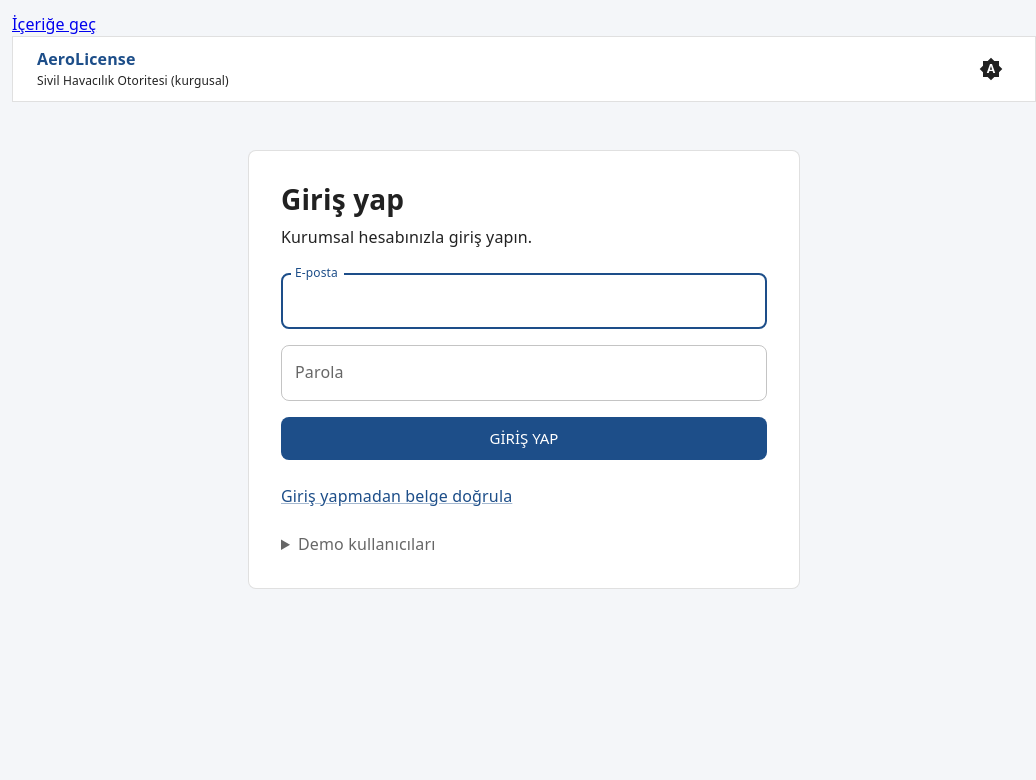
Giriş formu › geçersiz e-posta formatını reddeder
Type "eposta-degil" into the field labelled "E-posta".
click(524, 302); type("eposta-degil")  # box [281,274,767,330]
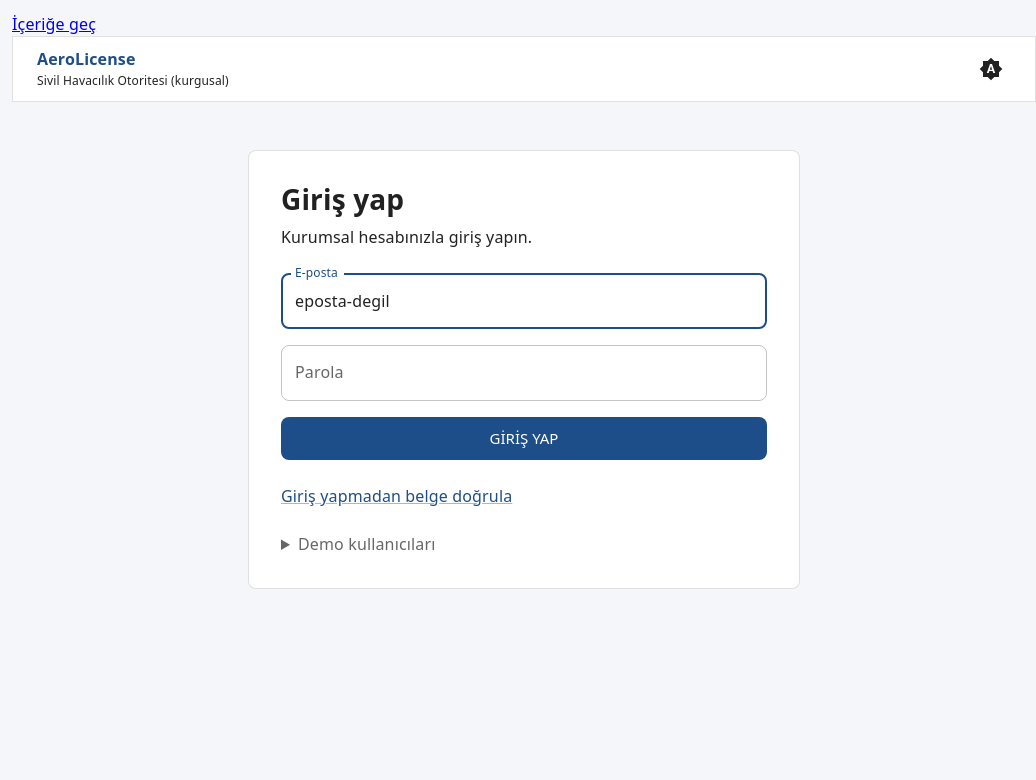
Type "x" into the password field labelled "Parola".
click(524, 374); type("x")  # box [281,346,767,402]
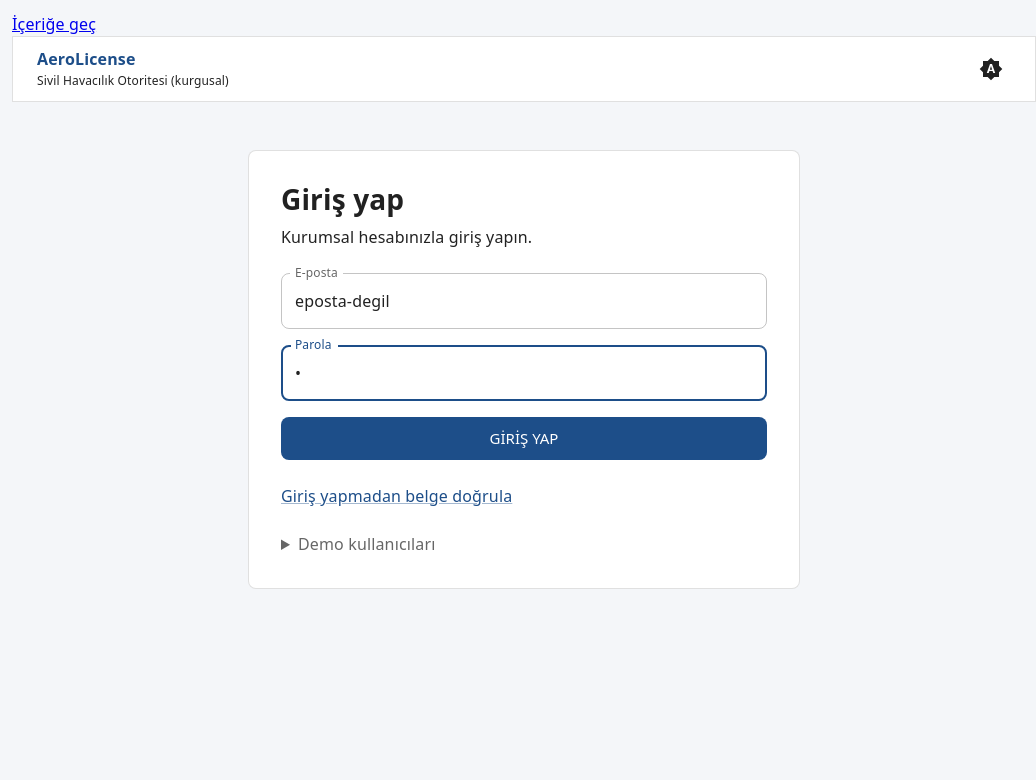
Click the button "Giriş yap".
click(524, 439)  # box [281,418,767,460]
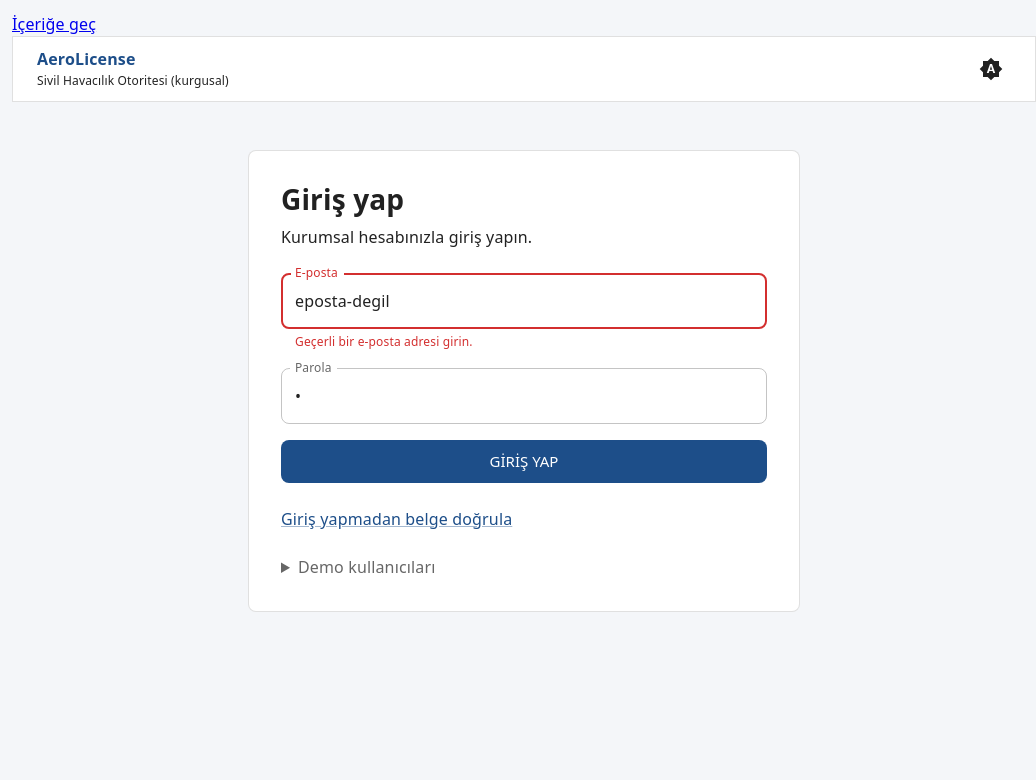
Now the text "Geçerli bir e-posta adresi girin." is shown, box [295,334,473,350]
